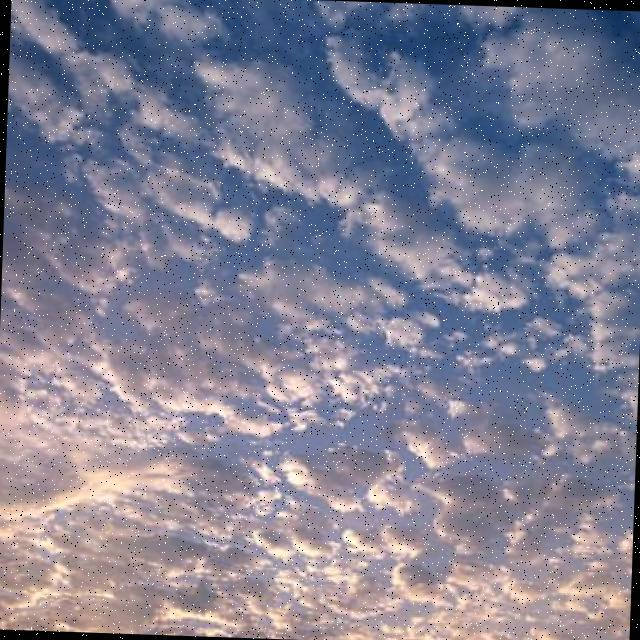Cc: (1, 20, 640, 636)
